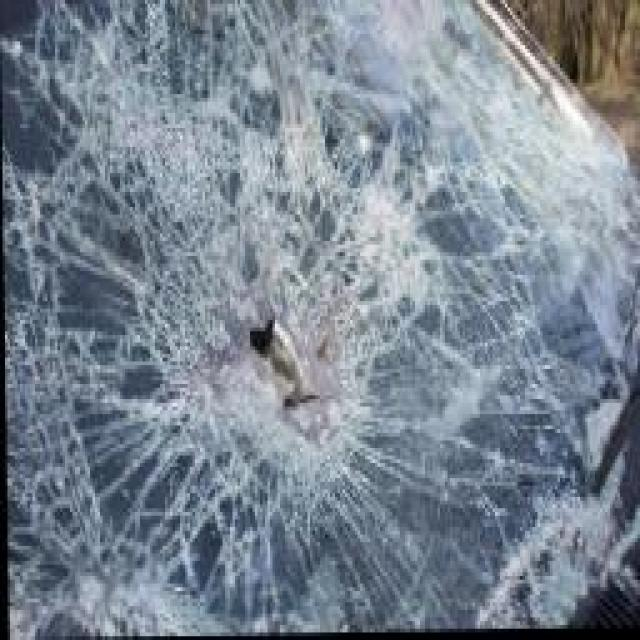Windshield: (0, 0, 640, 638)
